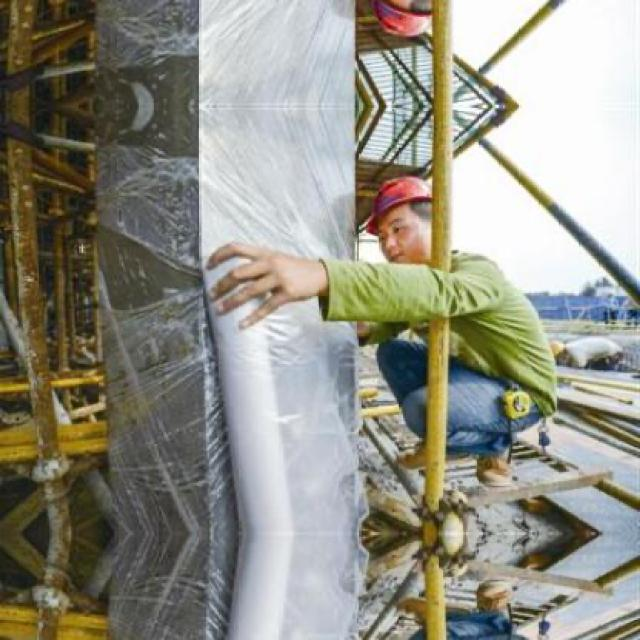con casco: (343, 176, 478, 300)
